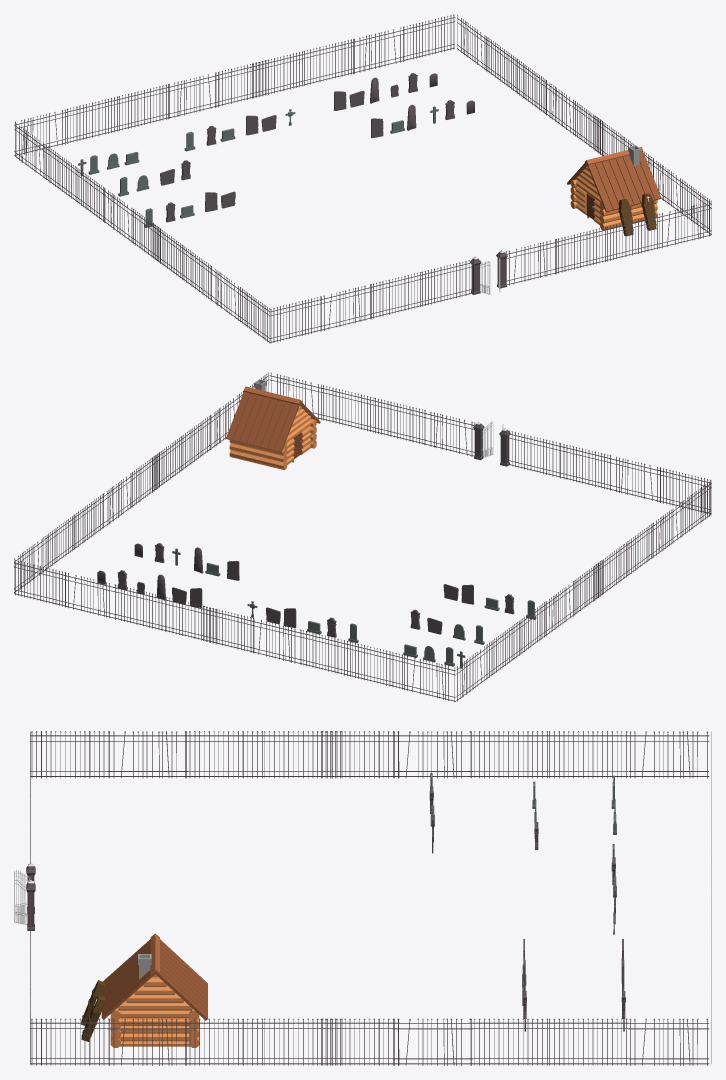
File: Cemetery01.glb
The picture shows the model from 3 angles, top to bottom: view 1: azimuth 30°, elevation 25°; view 2: azimuth 150°, elevation 25°; view 3: azimuth 270°, elevation 25°; orthographic projection. The views are drawn at different scales.
Parts seen in each view (by area): view 1: Cube.009, New Cemetery Gate Open, New Fence.004, New Fence.003, New Fence.020, New Fence.019, New Fence.002, New Fence, New Fence.018, New Fence.001, New Fence.021, New Fence.017 (+25 smaller); view 2: Cube.009, Cylinder.063, New Cemetery Gate Open, New Fence.020, New Fence.003, New Fence.021, New Fence.001, New Fence.018, New Fence, New Fence.022, New Fence.002, New Fence.019 (+24 smaller); view 3: Cube.009, Cylinder.038, Cylinder.037, New Fence.009, New Fence.015, New Fence.006, New Fence.010, Old Fence.003, Old Fence.005, New Fence.005, New Fence.007, New Fence.016 (+10 smaller).
Boxes of the visible parts, x1,y1,x2,y2 form: Cube.009: [567, 146, 661, 212]; New Cemetery Gate Open: [470, 250, 507, 294]; New Fence.004: [269, 296, 322, 343]; New Fence.003: [554, 226, 606, 274]; New Fence.020: [118, 83, 170, 131]; New Fence.019: [66, 96, 118, 143]; New Fence.002: [606, 214, 658, 261]; New Fence: [421, 259, 473, 306]; New Fence.018: [303, 38, 355, 85]; New Fence.001: [369, 272, 421, 319]; New Fence.021: [403, 14, 455, 61]; New Fence.017: [251, 51, 303, 98]; Cube.009: [226, 386, 320, 452]; Cylinder.063: [229, 440, 287, 470]; New Cemetery Gate Open: [473, 421, 510, 466]; New Fence.020: [299, 629, 351, 676]; New Fence.003: [374, 398, 426, 444]; New Fence.021: [14, 560, 66, 607]; New Fence.001: [559, 443, 611, 490]; New Fence.018: [113, 584, 165, 631]; New Fence: [508, 430, 559, 477]; New Fence.022: [202, 605, 254, 653]; New Fence.002: [322, 385, 374, 432]; New Fence.019: [351, 642, 403, 689]; Cube.009: [101, 933, 207, 1020]; Cylinder.038: [118, 1010, 191, 1046]; Cylinder.037: [118, 977, 191, 1010]; New Fence.009: [30, 1018, 110, 1065]; New Fence.015: [30, 731, 110, 778]; New Fence.006: [183, 1018, 263, 1065]; New Fence.010: [319, 1018, 399, 1065]; Old Fence.003: [107, 1018, 187, 1065]; Old Fence.005: [628, 1018, 709, 1065]; New Fence.005: [263, 1018, 343, 1065]; New Fence.007: [547, 1018, 628, 1065]; New Fence.016: [319, 731, 399, 778].
Bounding box in the file's own units: 120 × 17.17 × 123.
Materials: 10 (1 with a texture image).
